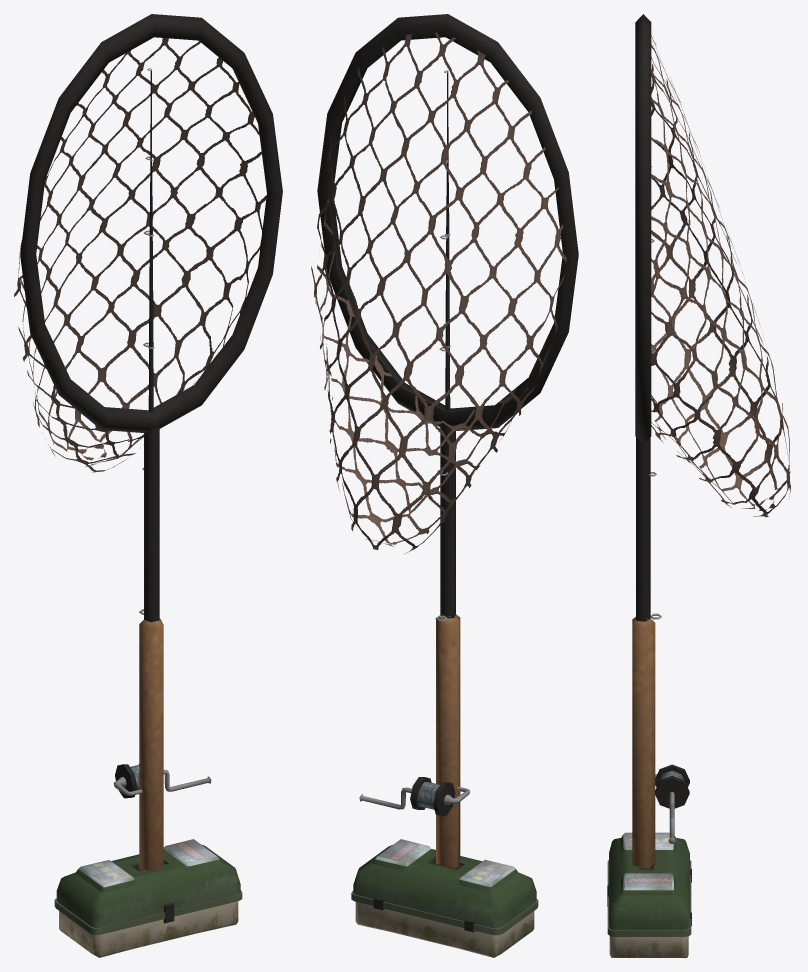
File: fishing_supplies.glb
The picture shows the model from 3 angles, left to right: view 1: azimuth 30°, elevation 25°; view 2: azimuth 150°, elevation 25°; view 3: azimuth 270°, elevation 25°; orthographic projection.
Parts seen in each view (by area): view 1: fishing_supplies; view 2: fishing_supplies; view 3: fishing_supplies.
Boxes of the visible parts, <box> form: fishing_supplies: <box>14,14,282,957</box>; fishing_supplies: <box>311,14,578,957</box>; fishing_supplies: <box>607,14,790,957</box>.
Size of the model in its own units: 0.4492 by 1.5 by 0.28.
Materials: 1 (1 with a texture image).
